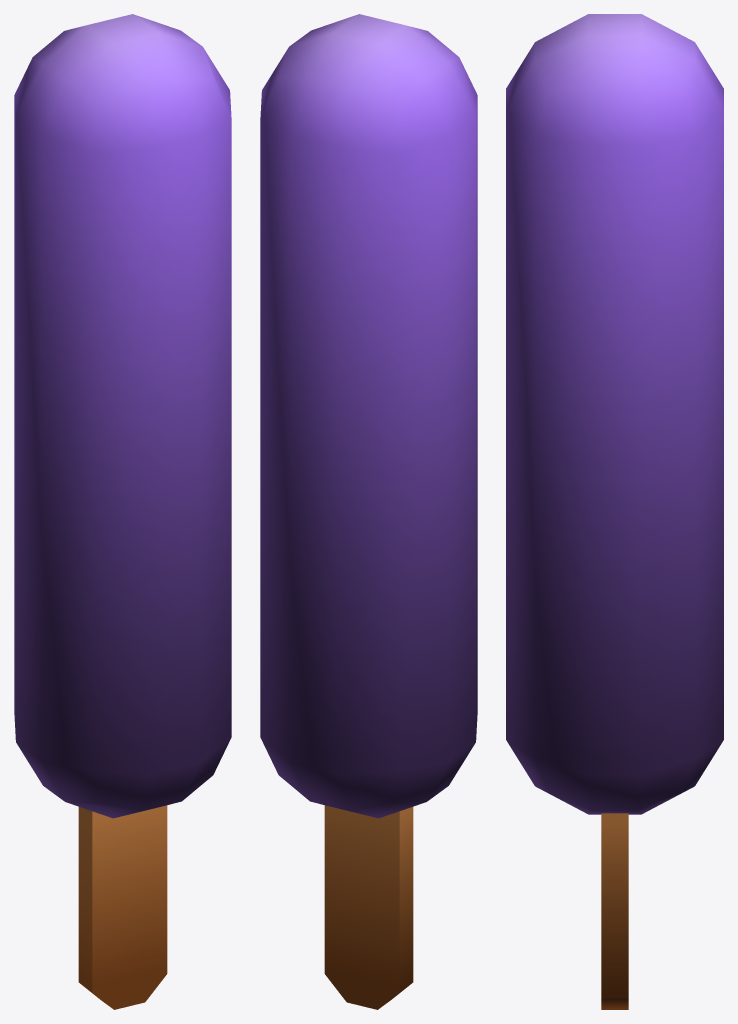
The model's file is m_PopsicleStick10.fbx.
3 renders of one model, left to right at view 1: azimuth 30°, elevation 25°; view 2: azimuth 150°, elevation 25°; view 3: azimuth 270°, elevation 25°, orthographic.
Visible parts, largest first — view 1: m_PopsicleStick10; view 2: m_PopsicleStick10; view 3: m_PopsicleStick10.
Part boxes in pixels (x1,y1,x2,y2): m_PopsicleStick10: (14,14,231,1009); m_PopsicleStick10: (260,14,477,1009); m_PopsicleStick10: (506,14,723,1009).
Size of the model in its own units: 4.64 by 22.99 by 4.64.
